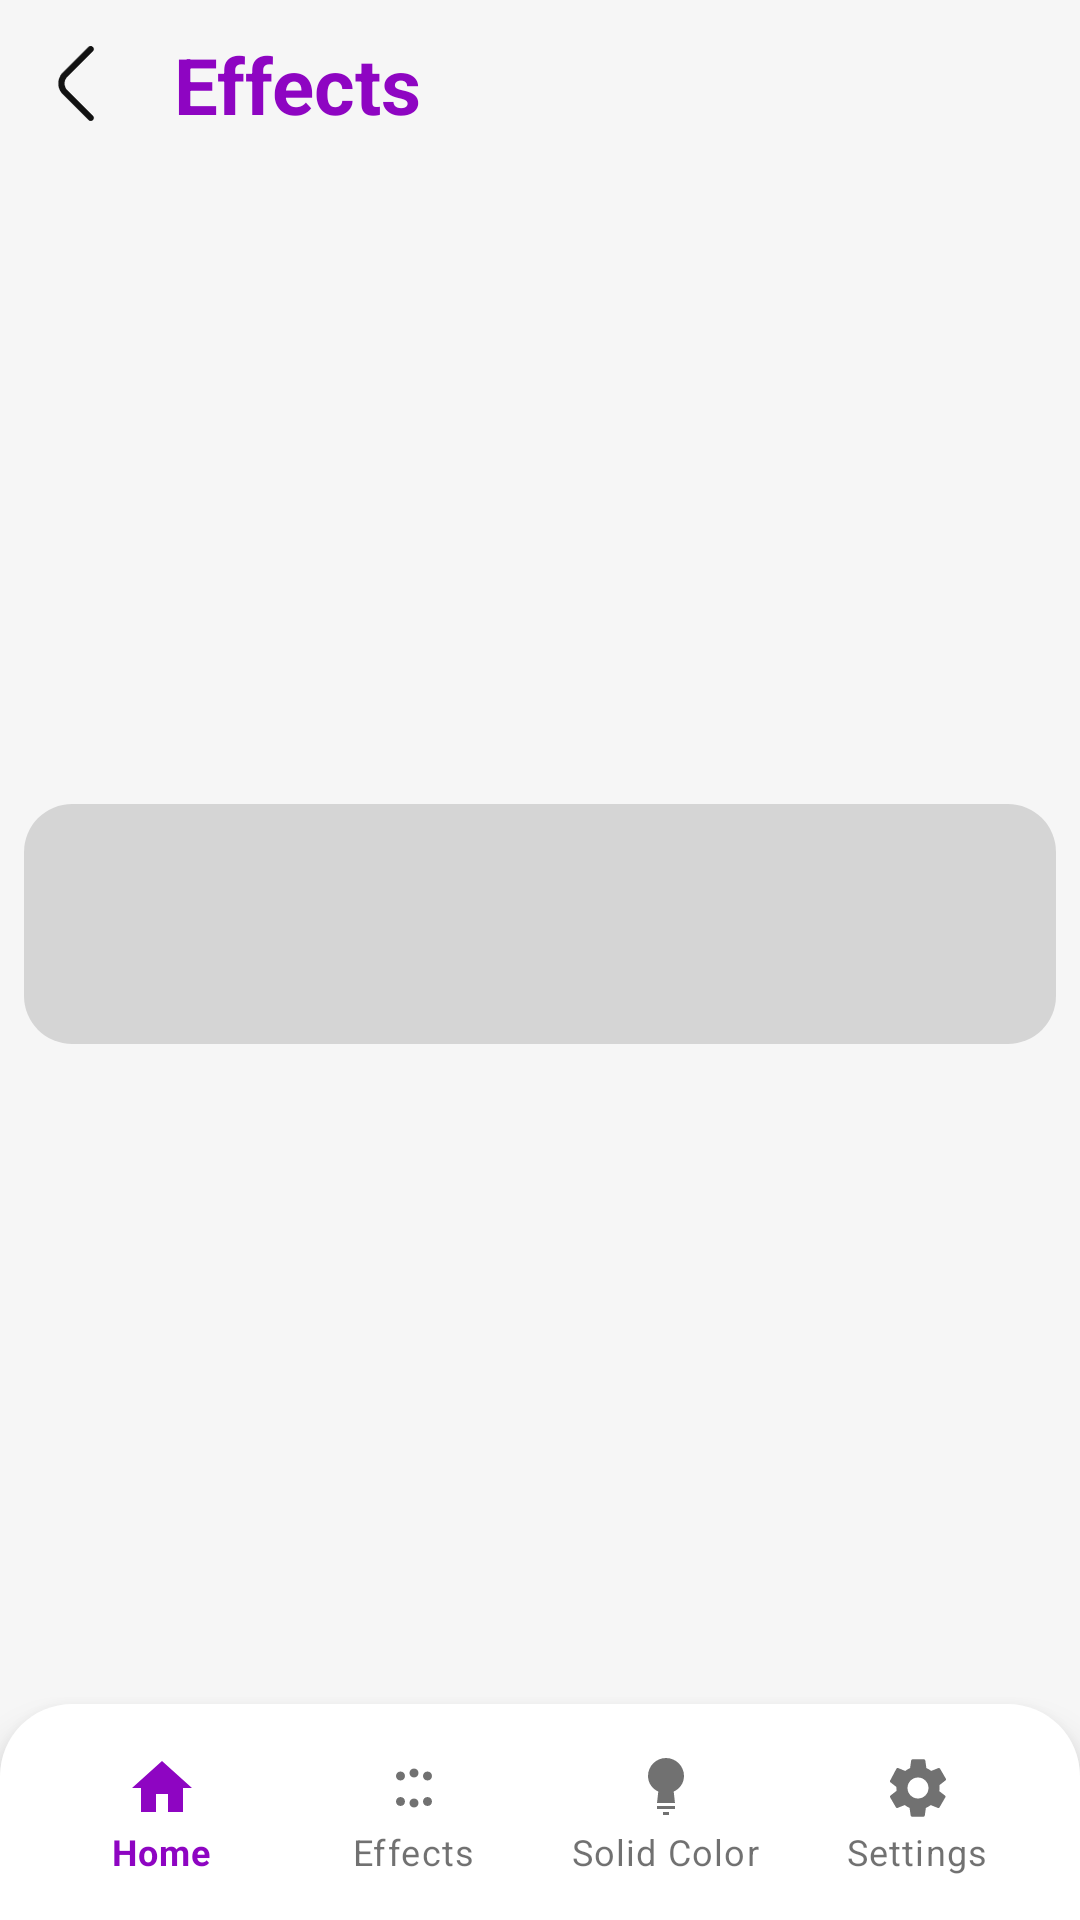

Point at icon controls on the screen. Image size 1080w x 1920h, points as [x,y].
Back Button: [76,83]
